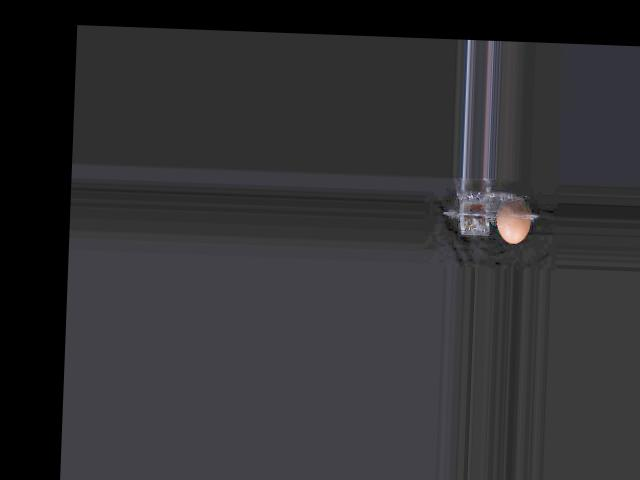egg: (496, 197, 532, 243)
